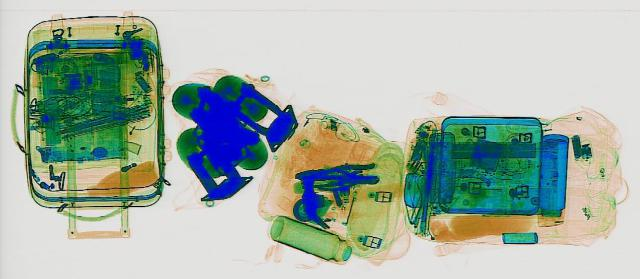Pliers: (293, 162, 379, 183)
